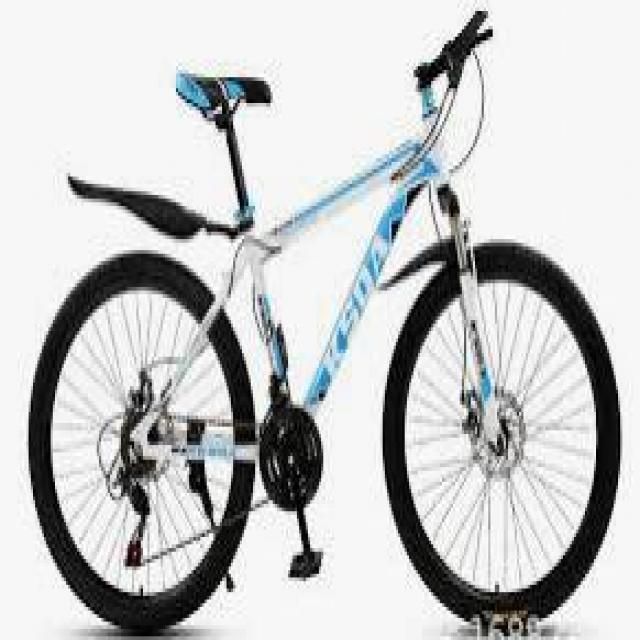bicycle: (30, 5, 635, 608)
